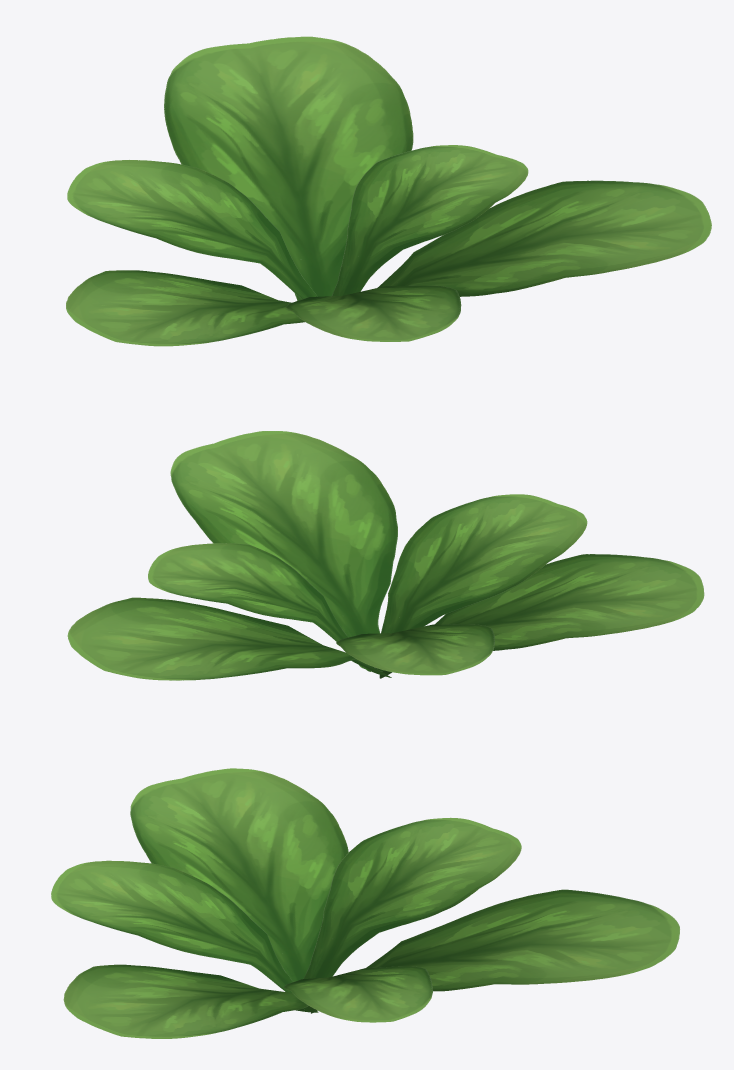
Rendered from MESH_floorplant_medium.fbx.
3 renders of one model, top to bottom at view 1: azimuth 30°, elevation 25°; view 2: azimuth 150°, elevation 25°; view 3: azimuth 270°, elevation 25°, orthographic. The views are drawn at different scales.
Visible parts, largest first — view 1: Plane.022; view 2: Plane.022; view 3: Plane.022.
Boxes of the visible parts, box(x1,y1,x2,y2) form: Plane.022: box(66, 36, 711, 346); Plane.022: box(67, 431, 704, 680); Plane.022: box(51, 768, 679, 1038).
Bounding box in the file's own units: 77.46 × 14.58 × 74.07.
